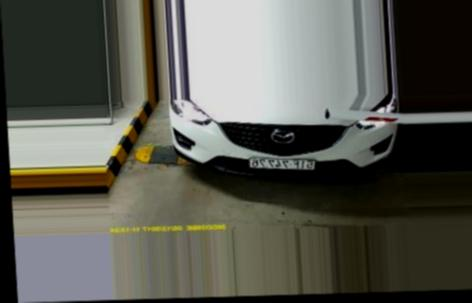License_Plate: (248, 155, 319, 175)
